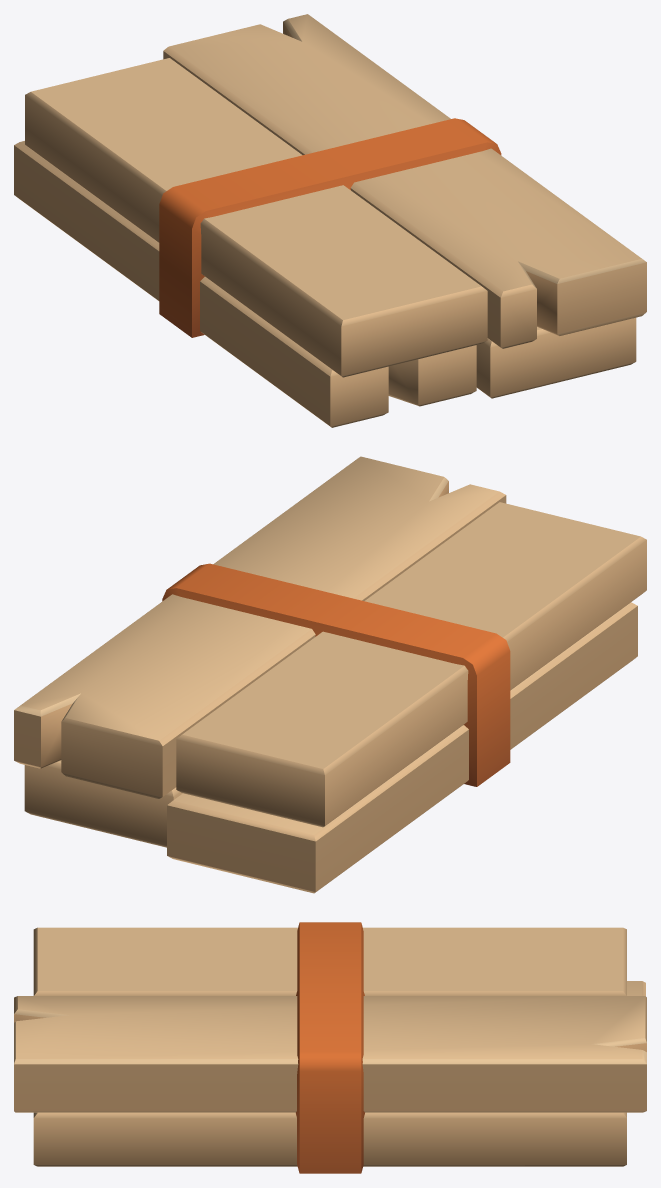
Rendered from Wood_Planks_Stack_Small.glb.
3 views of the same model, one above another, from view 1: azimuth 30°, elevation 25°; view 2: azimuth 150°, elevation 25°; view 3: azimuth 270°, elevation 25° (orthographic). The views are drawn at different scales.
Parts seen in each view (by area): view 1: Wood_Planks_Stack_Small; view 2: Wood_Planks_Stack_Small; view 3: Wood_Planks_Stack_Small.
Part boxes in pixels (<box>): Wood_Planks_Stack_Small: <box>14,14,646,427</box>; Wood_Planks_Stack_Small: <box>14,456,646,893</box>; Wood_Planks_Stack_Small: <box>14,922,646,1173</box>.
Size of the model in its own units: 0.8461 by 0.3232 by 1.6.
Materials: 1 (1 with a texture image).
